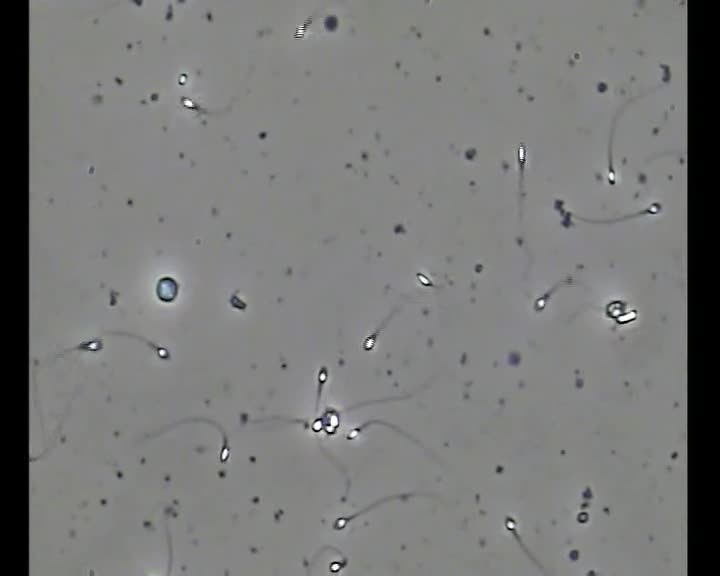spermhead: (333, 517, 348, 529)
